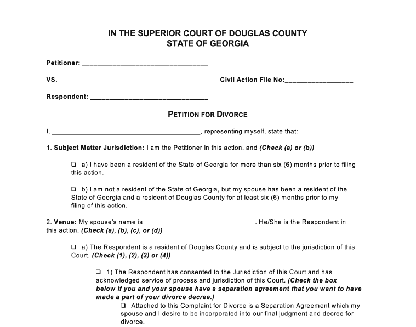checkbox: (119, 301, 126, 307), (70, 161, 76, 167), (70, 185, 76, 191), (70, 243, 76, 249), (95, 269, 101, 275)
textline: (51, 128, 201, 136), (82, 58, 209, 67), (88, 93, 209, 101), (143, 218, 257, 226), (284, 77, 355, 84)
